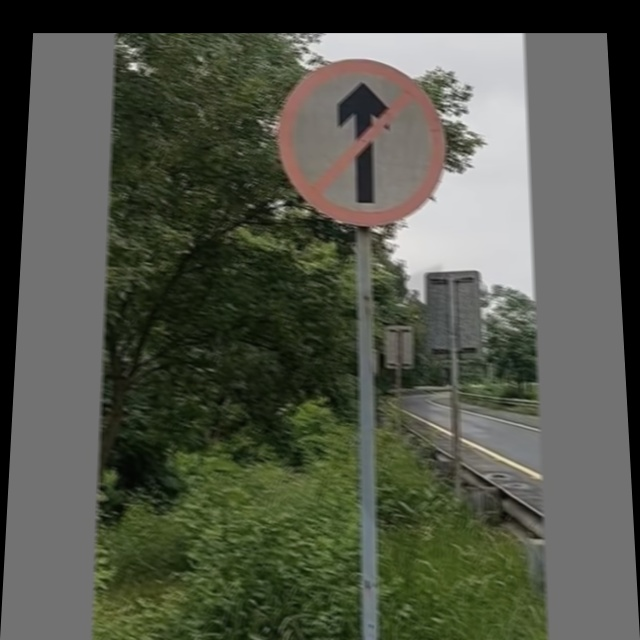No_Entry: (277, 60, 445, 225)
